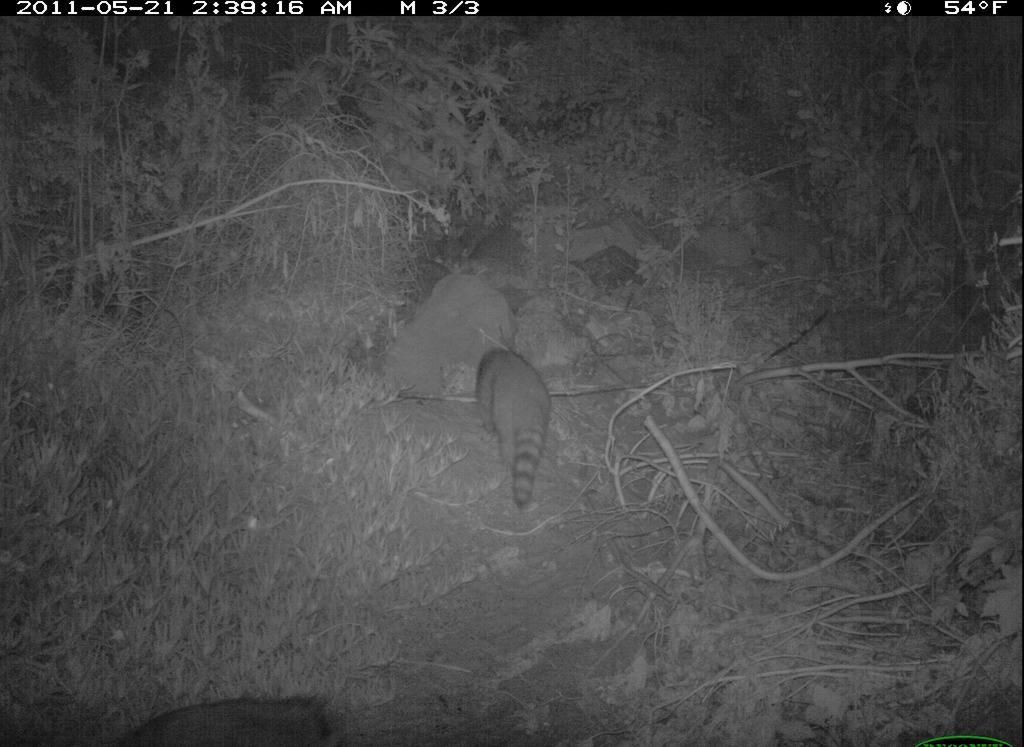raccoon: (466, 335, 562, 519), (112, 683, 356, 743)
